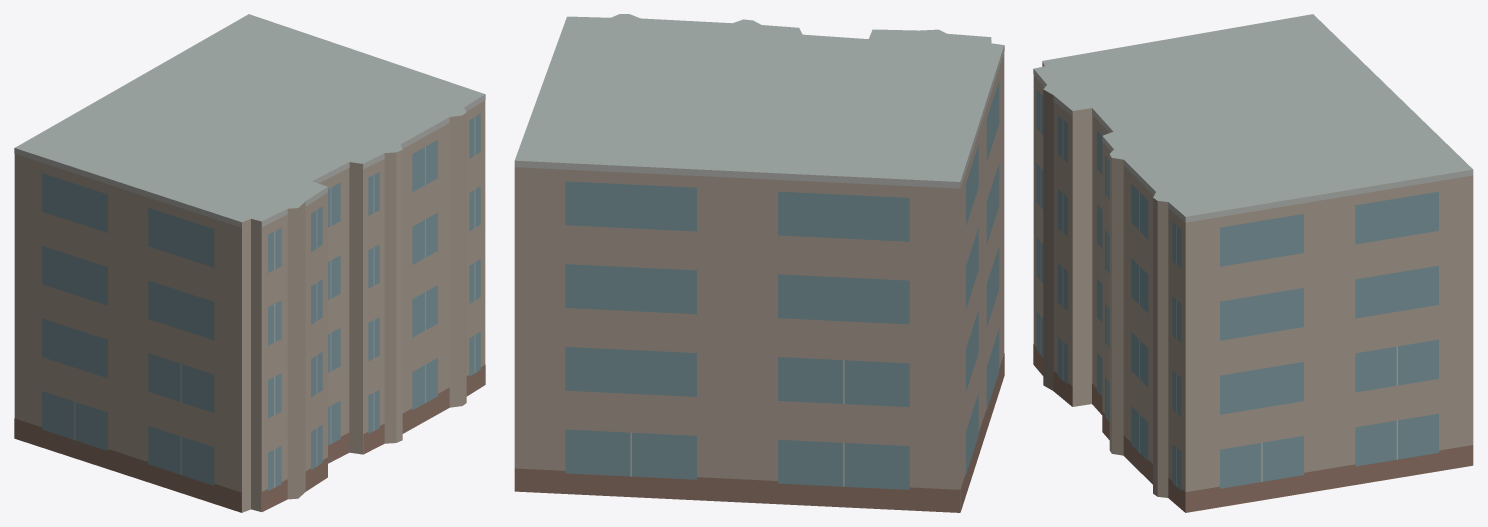
File: survey-upis-32731792.glb
3 views of the same model, side by side, from view 1: azimuth 30°, elevation 25°; view 2: azimuth 150°, elevation 25°; view 3: azimuth 270°, elevation 25° (orthographic). The views are drawn at different scales.
Visible parts, largest first — view 1: survey-upis-32731792.tmp; view 2: survey-upis-32731792.tmp; view 3: survey-upis-32731792.tmp.
Part boxes in pixels (box(x1,y1,x2,y2)): survey-upis-32731792.tmp: box(14, 14, 485, 512); survey-upis-32731792.tmp: box(514, 14, 1004, 512); survey-upis-32731792.tmp: box(1033, 14, 1473, 512).
Size of the model in its own units: 18.24 by 12.4 by 16.71.
